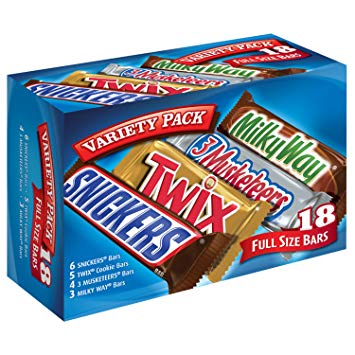snickers: (62, 166, 189, 260), (22, 84, 155, 104)
